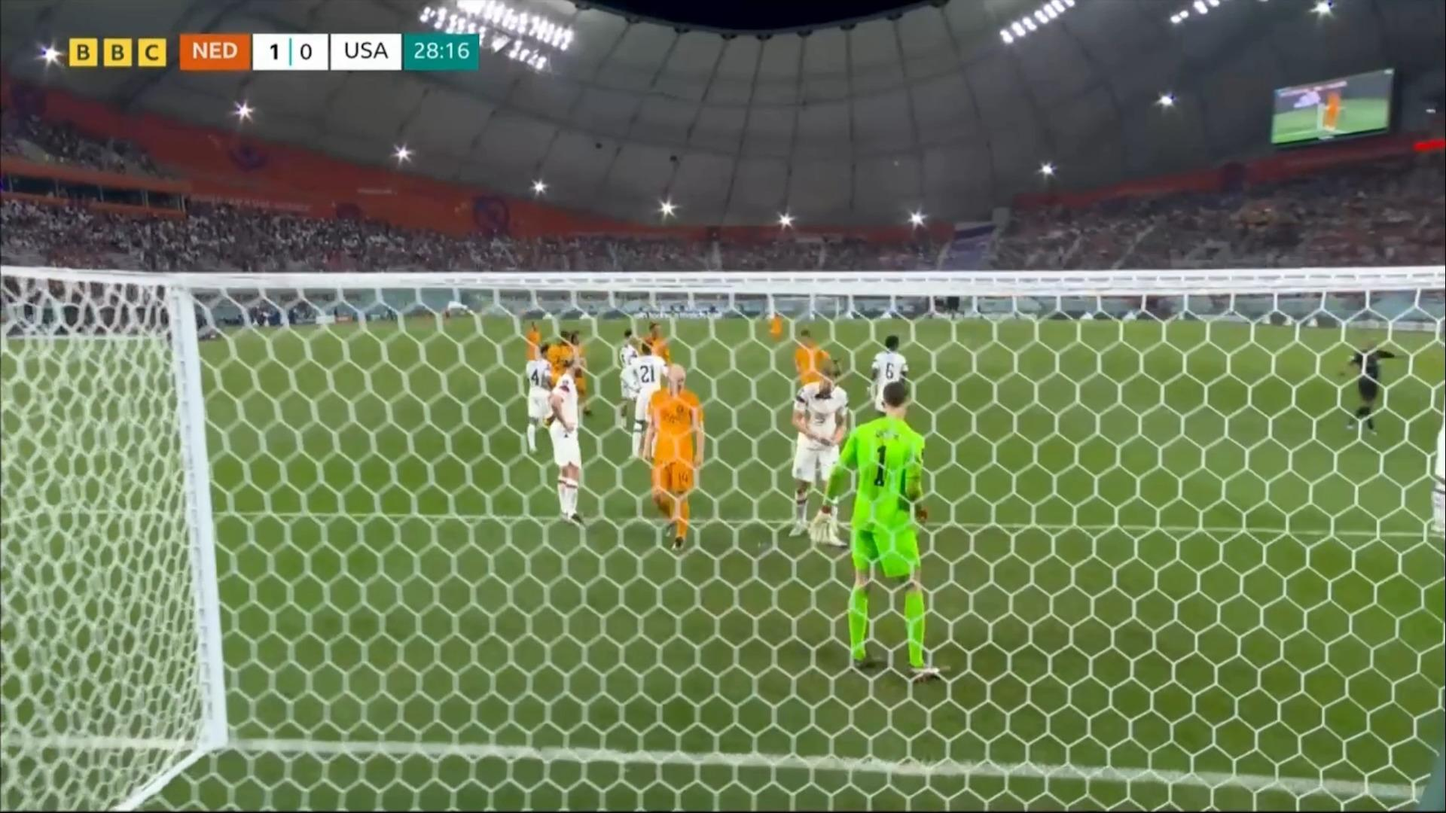Player: (821, 380, 942, 681), (643, 363, 708, 556), (789, 361, 850, 550), (545, 355, 590, 528), (620, 339, 671, 461), (517, 342, 555, 454), (865, 334, 908, 416), (791, 325, 832, 387), (569, 330, 594, 416), (619, 329, 641, 423), (549, 332, 570, 381), (645, 320, 670, 359), (526, 319, 543, 365), (766, 311, 785, 341)
Ref: (1336, 334, 1413, 437)
